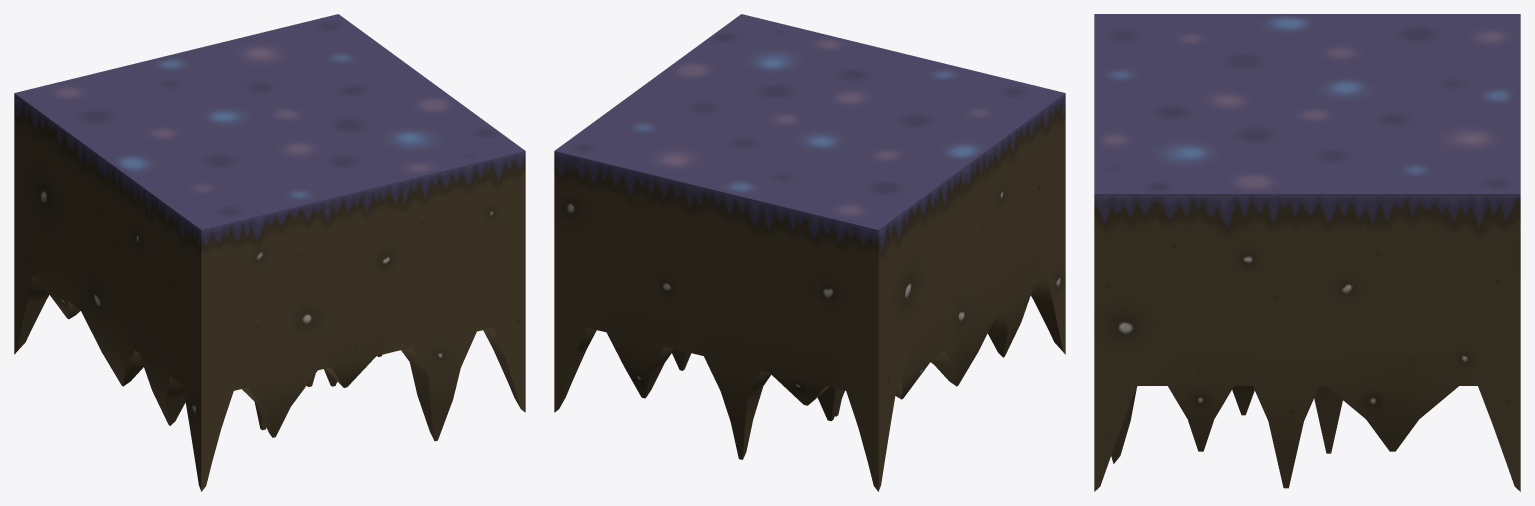
File: Island_Default_SEV_001.FBX
The picture shows the model from 3 angles, left to right: view 1: azimuth 30°, elevation 25°; view 2: azimuth 150°, elevation 25°; view 3: azimuth 270°, elevation 25°; orthographic projection. The views are drawn at different scales.
Visible parts, largest first — view 1: Default; view 2: Default; view 3: Default.
Boxes of the visible parts, left/top/right/bottom form: Default: left=14, top=14, right=525, bottom=491; Default: left=554, top=14, right=1065, bottom=491; Default: left=1094, top=14, right=1520, bottom=491.
Size of the model in its own units: 10 by 8.73 by 10.
